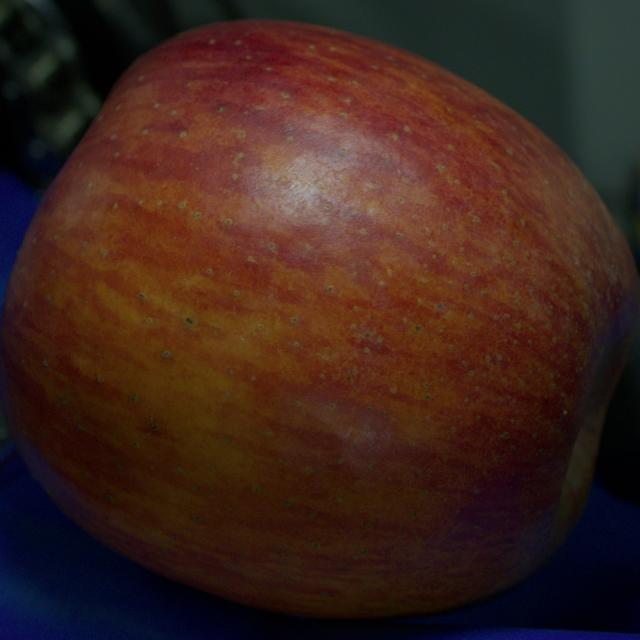apple: (0, 21, 639, 618)
